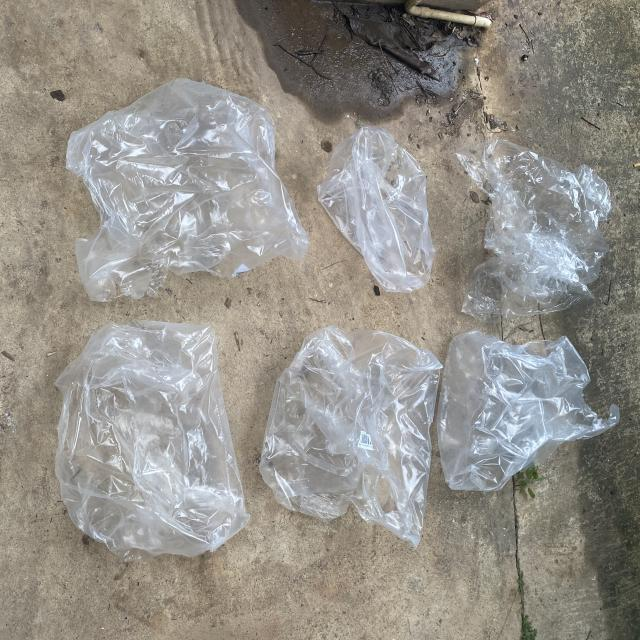Single-layer Plastic: (66, 79, 309, 301), (56, 321, 249, 560), (260, 326, 441, 546), (438, 330, 619, 491), (456, 140, 611, 322), (318, 126, 435, 292)
